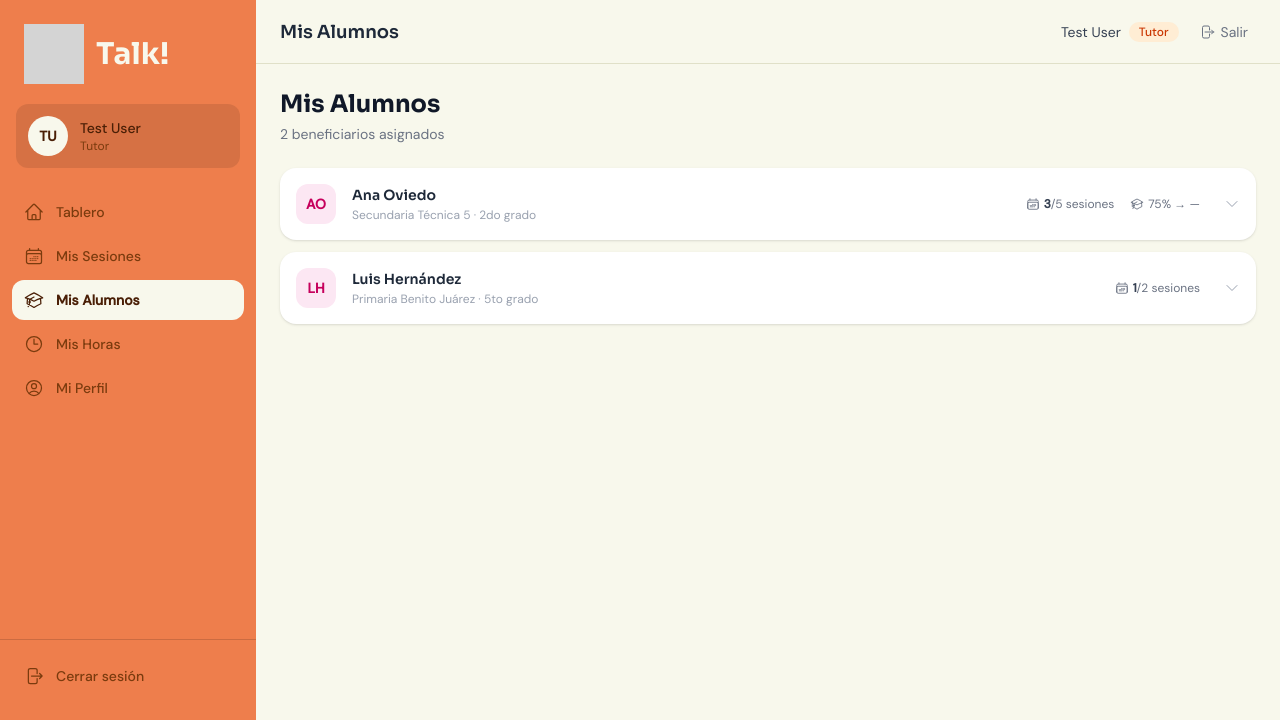
Scenario: Mis Alumnos (tutor) › expande el panel del alumno y muestra datos de contacto y sesiones
What coordinates should you click on to do the following:
click the button "Ana Oviedo"
I would click on:
 (316, 204)
Its box is [280,168,1256,240].
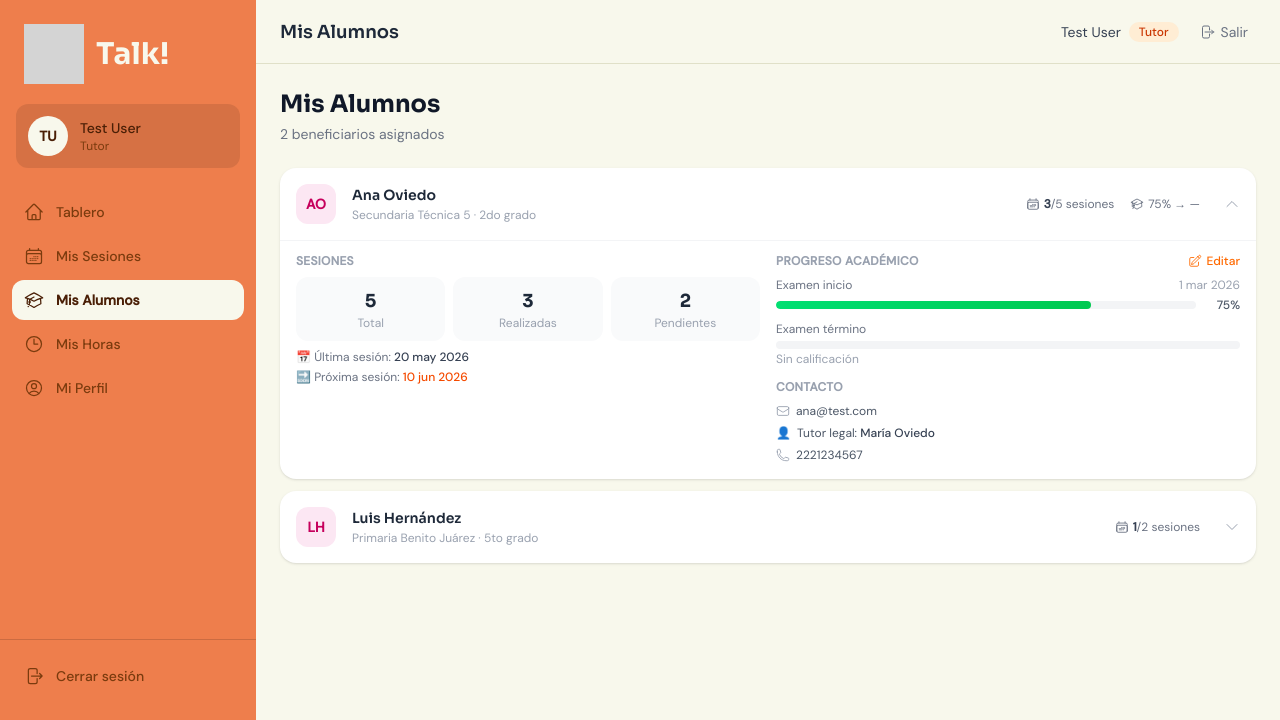
Expected: the text "Total" is shown, [357,315,384,331]
Expected: the text "Realizadas" is shown, [499,315,557,331]
Expected: the text "Pendientes" is shown, [654,315,716,331]
